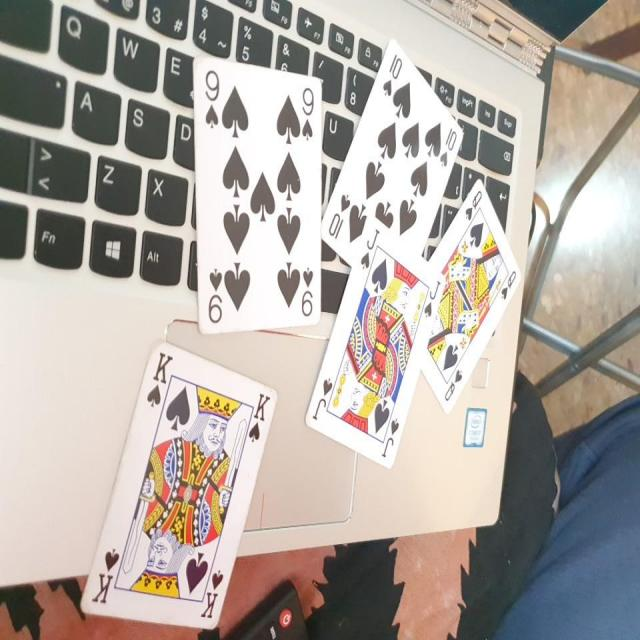10 Spades: (320, 36, 462, 297)
9 Spades: (185, 44, 328, 337)
J Spades: (309, 224, 440, 477)
K Spades: (75, 344, 276, 639)
Q Spades: (412, 180, 509, 407)
